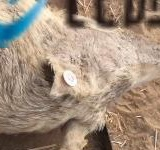text: (53, 60, 88, 93)
